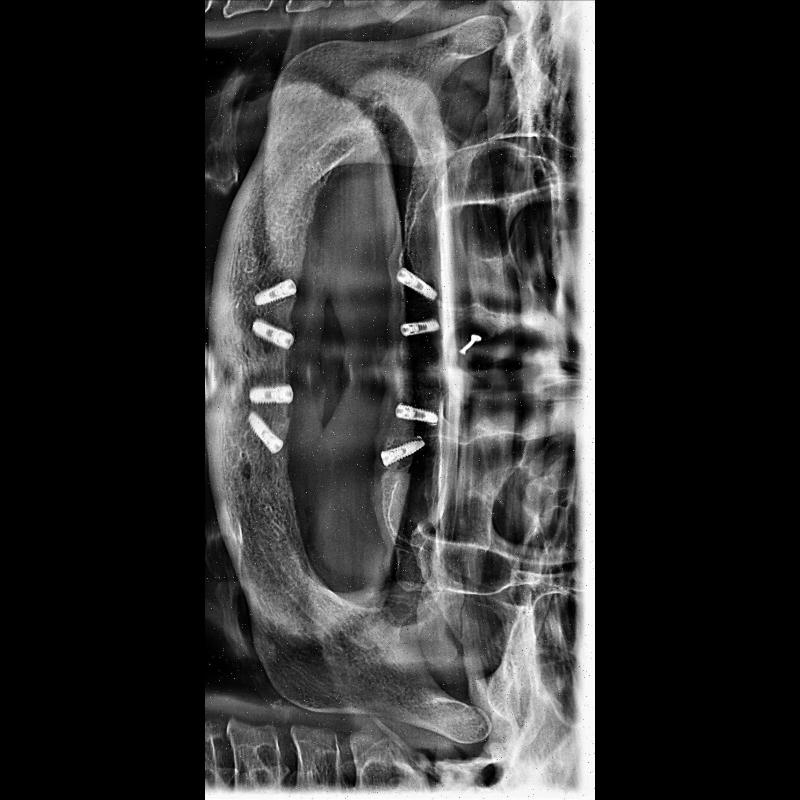osstem: (239, 411, 290, 454), (376, 432, 424, 474), (393, 268, 441, 302), (246, 315, 296, 347), (250, 276, 300, 304), (390, 401, 438, 427), (246, 380, 294, 404), (402, 318, 442, 340)
